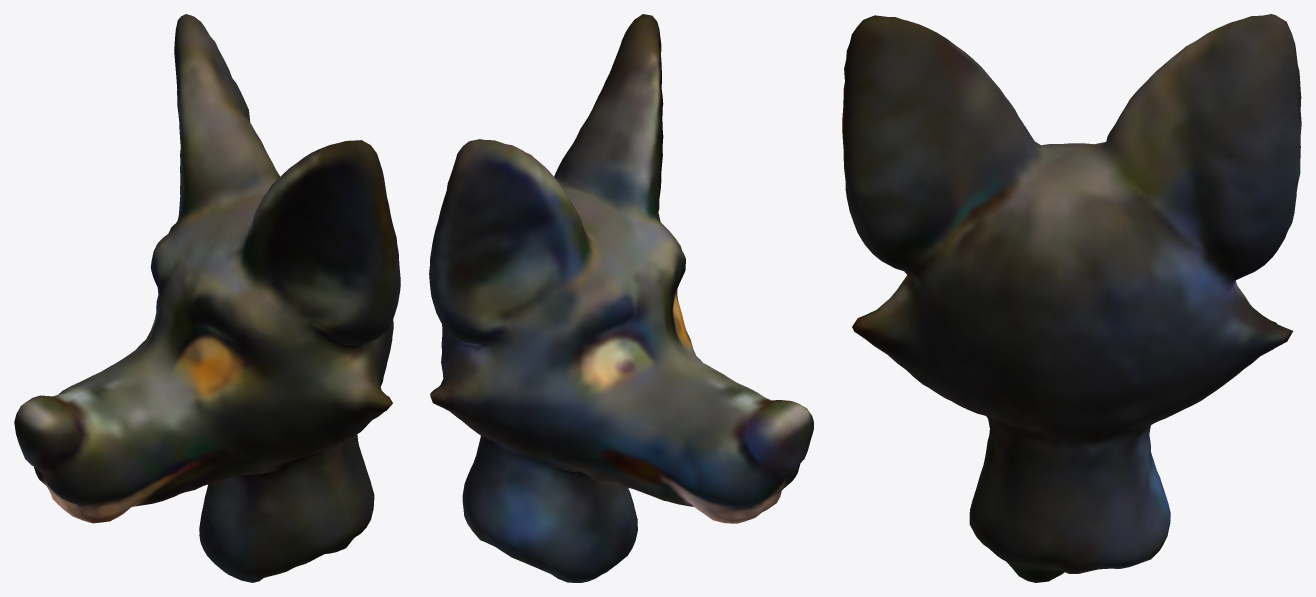
The model's file is 038_Create_fox_with_Square_face_with_curly_hair_intense_ey_0614163109_preview.obj.
3 views of the same model, side by side, from view 1: azimuth 30°, elevation 25°; view 2: azimuth 150°, elevation 25°; view 3: azimuth 270°, elevation 25° (orthographic). The views are drawn at different scales.
Parts seen in each view (by area): view 1: Mesh1; view 2: Mesh1; view 3: Mesh1.
Boxes of the visible parts, bbox=[...] form: Mesh1: bbox=[14, 14, 400, 582]; Mesh1: bbox=[429, 14, 813, 582]; Mesh1: bbox=[842, 14, 1301, 582].
Bounding box in the file's own units: 0.9025 × 1.2 × 0.8885.
Materials: 1 (1 with a texture image).
